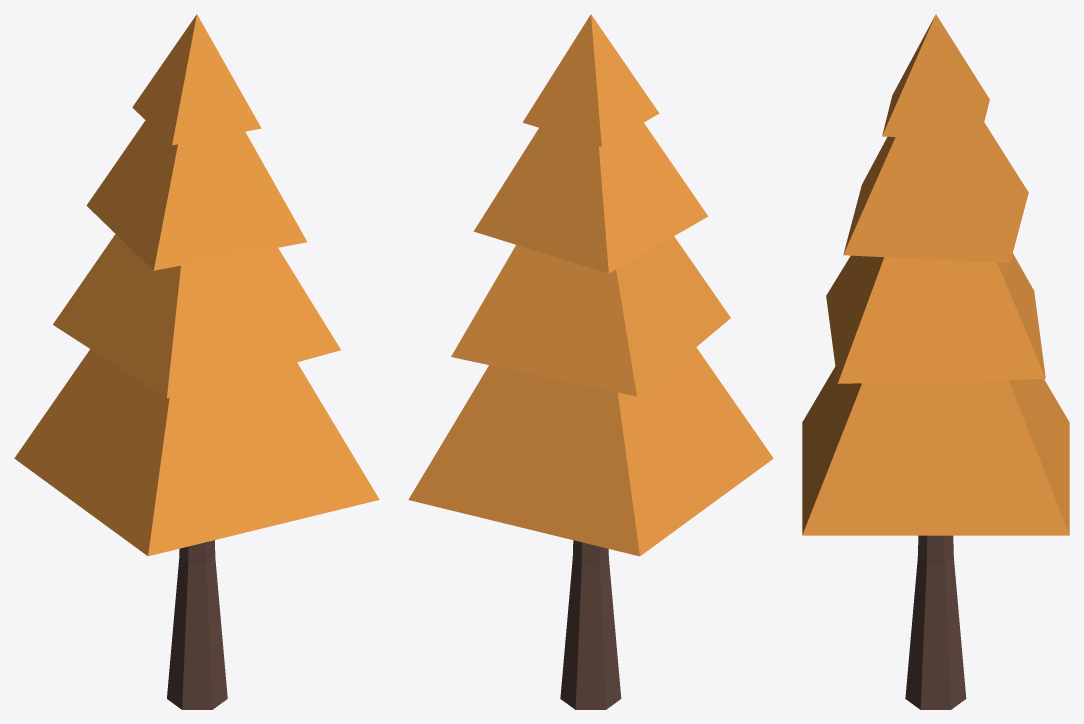
The model's file is AutumnTree_03.fbx.
The picture shows the model from 3 angles, left to right: view 1: azimuth 30°, elevation 25°; view 2: azimuth 150°, elevation 25°; view 3: azimuth 270°, elevation 25°; orthographic projection.
Parts seen in each view (by area): view 1: AutumnTree_03; view 2: AutumnTree_03; view 3: AutumnTree_03.
Boxes of the visible parts, <box> form: AutumnTree_03: <box>14,14,379,709</box>; AutumnTree_03: <box>408,14,773,709</box>; AutumnTree_03: <box>802,14,1069,709</box>.
Bounding box in the file's own units: 344 × 972 × 344.
